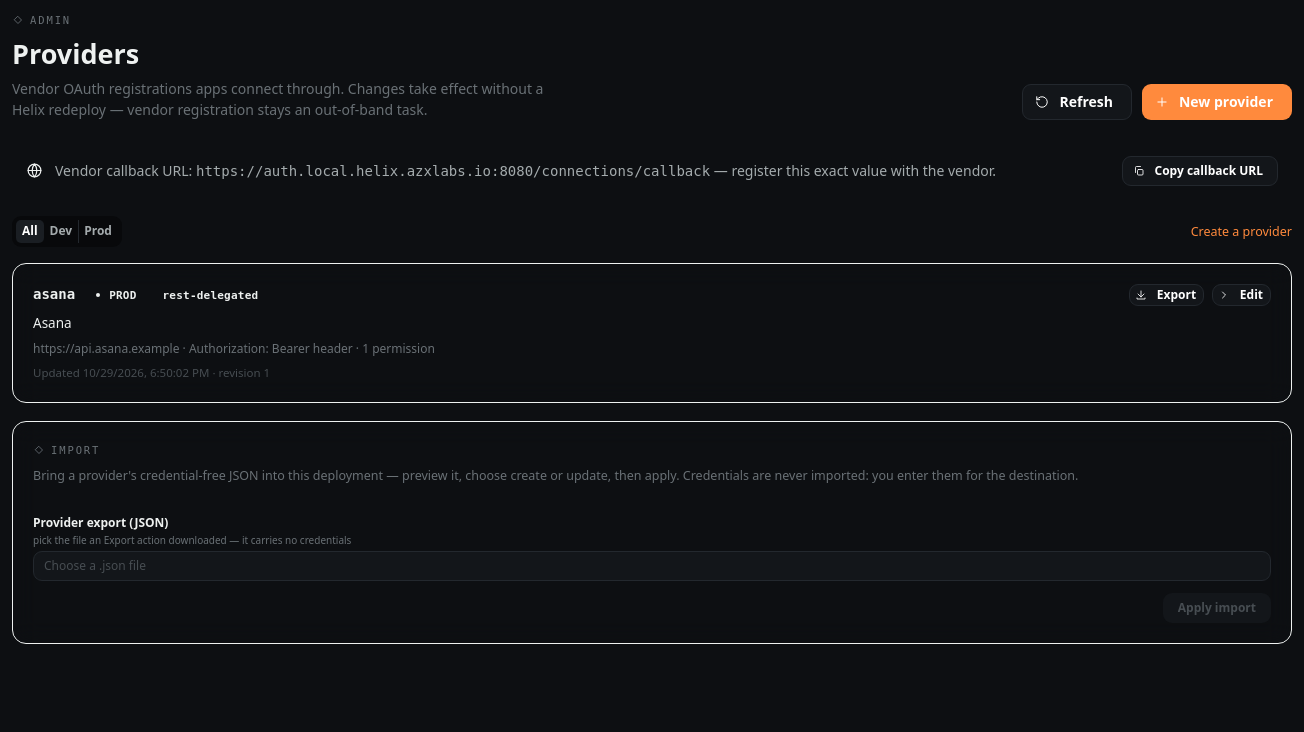
Test: ProvidersPage refresh failure › keeps loaded rows with a stale indication when a refresh fails
expect the text "asana" is shown: met, box [33, 284, 75, 306]
Click the button "Refresh". click: point(1077, 102)
box: [1022, 84, 1132, 120]
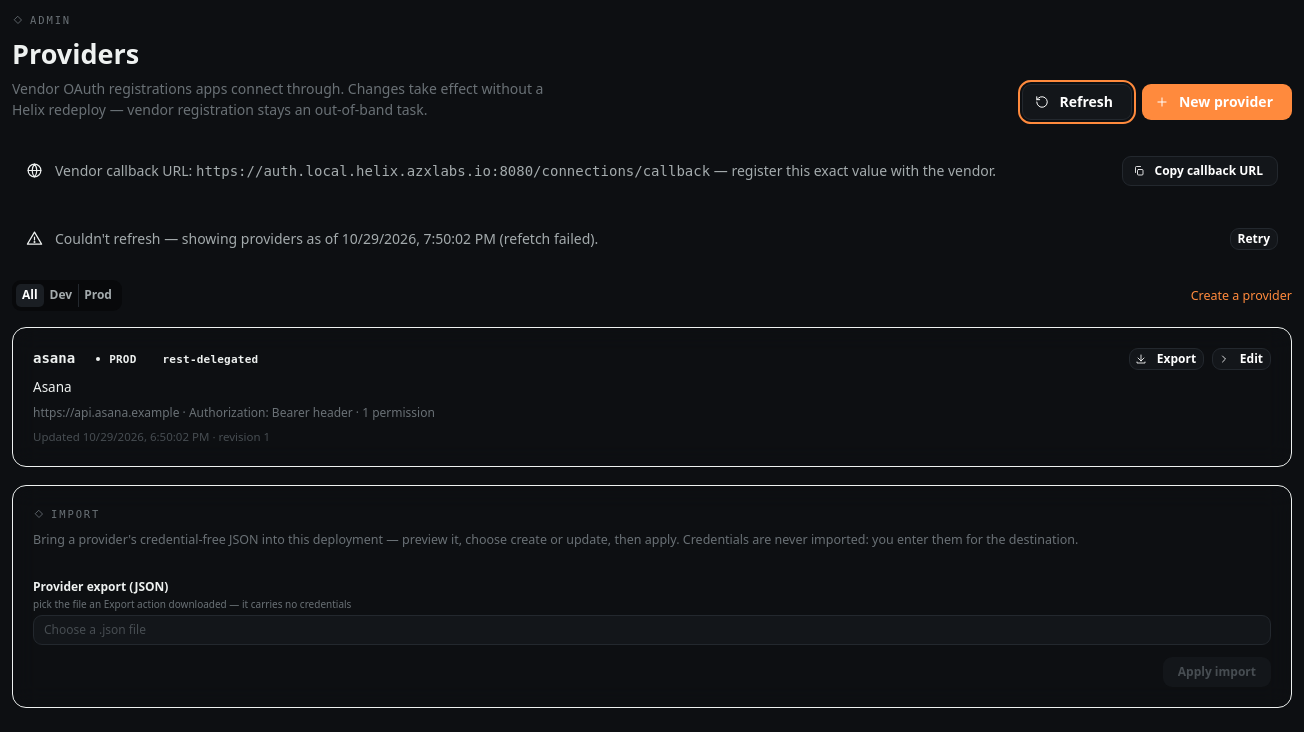
expect the text "asana" is shown: met, box [33, 348, 75, 370]
expect the text "Couldn't refresh" is shown: met, box [55, 229, 338, 248]
